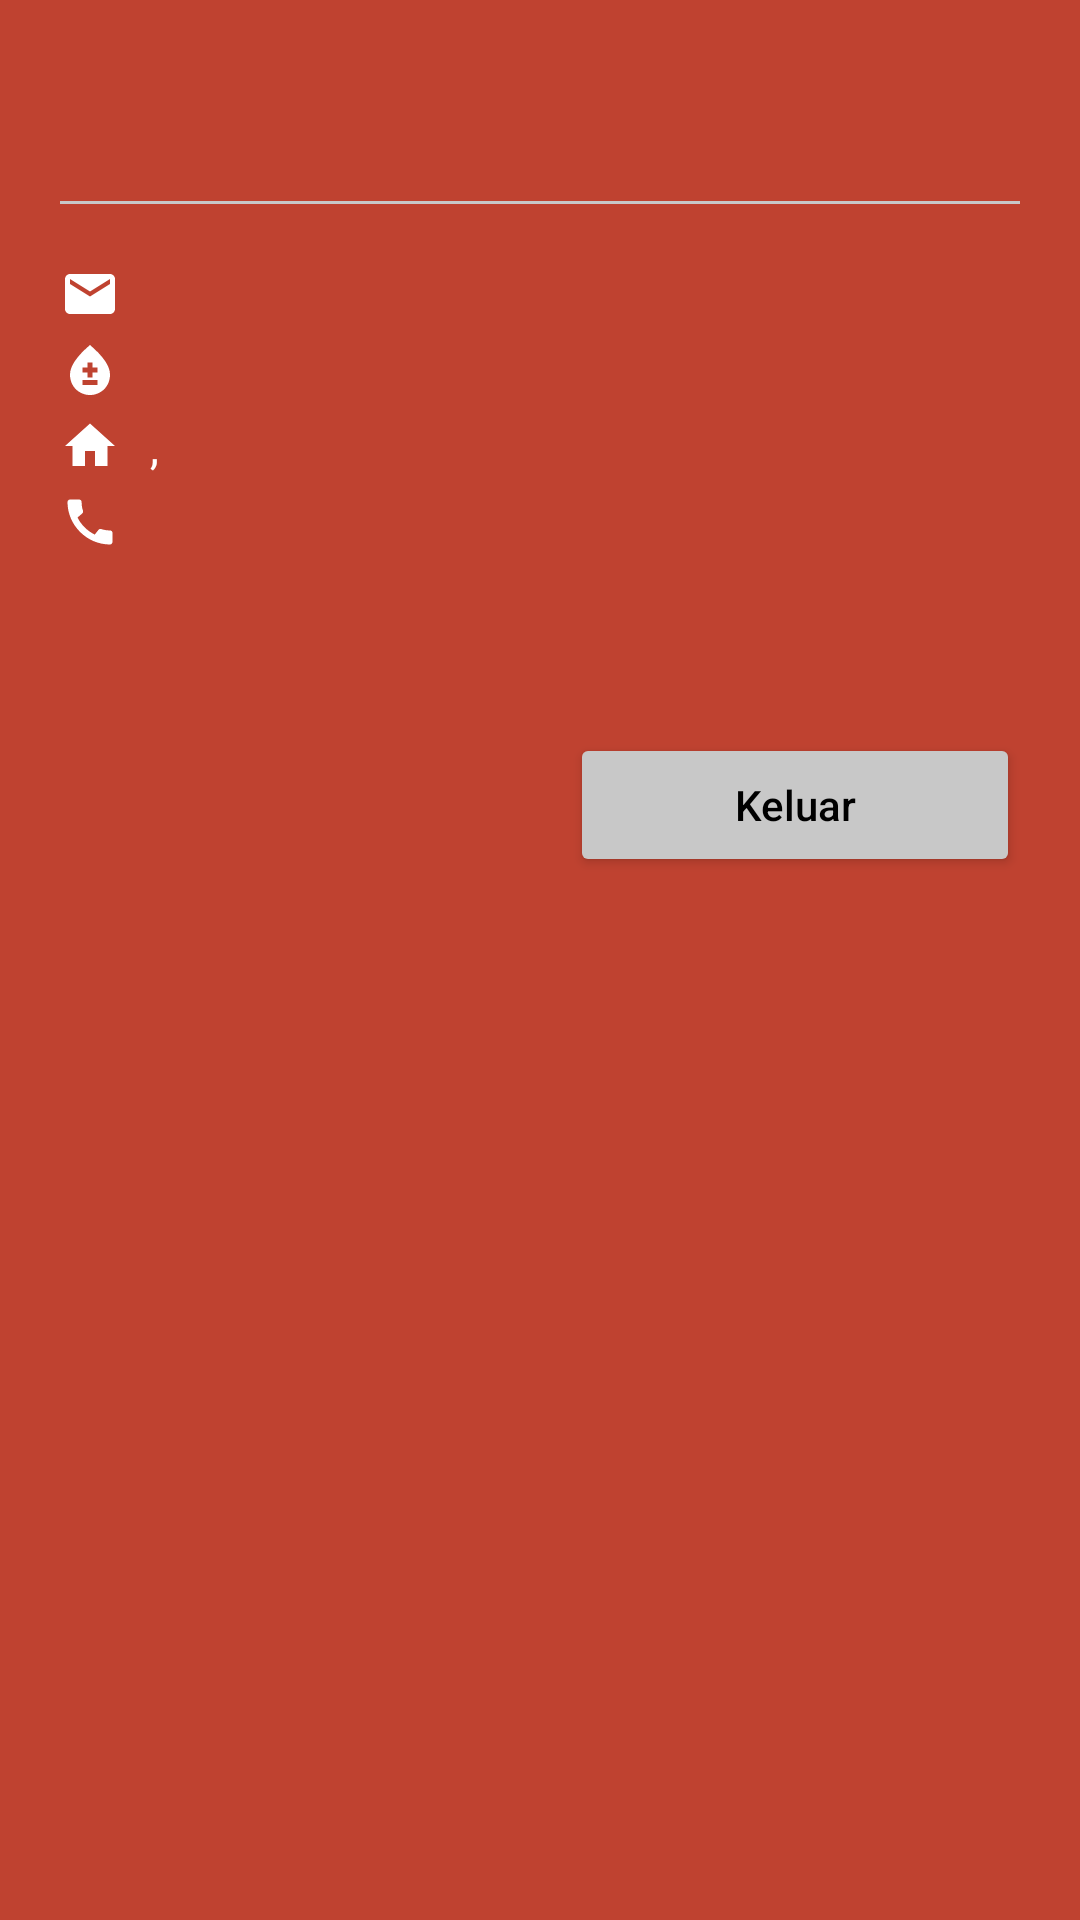

Named icons in this screenshot (1080 x 1920) and their bounding boxes, [x1,y1,x2,y2]:
bloodtype: [70,345,110,395]
Gambar Ikon Email: [65,274,115,314]
Gambar Ikon Telepon: [67,499,113,545]
home: [65,423,115,466]
